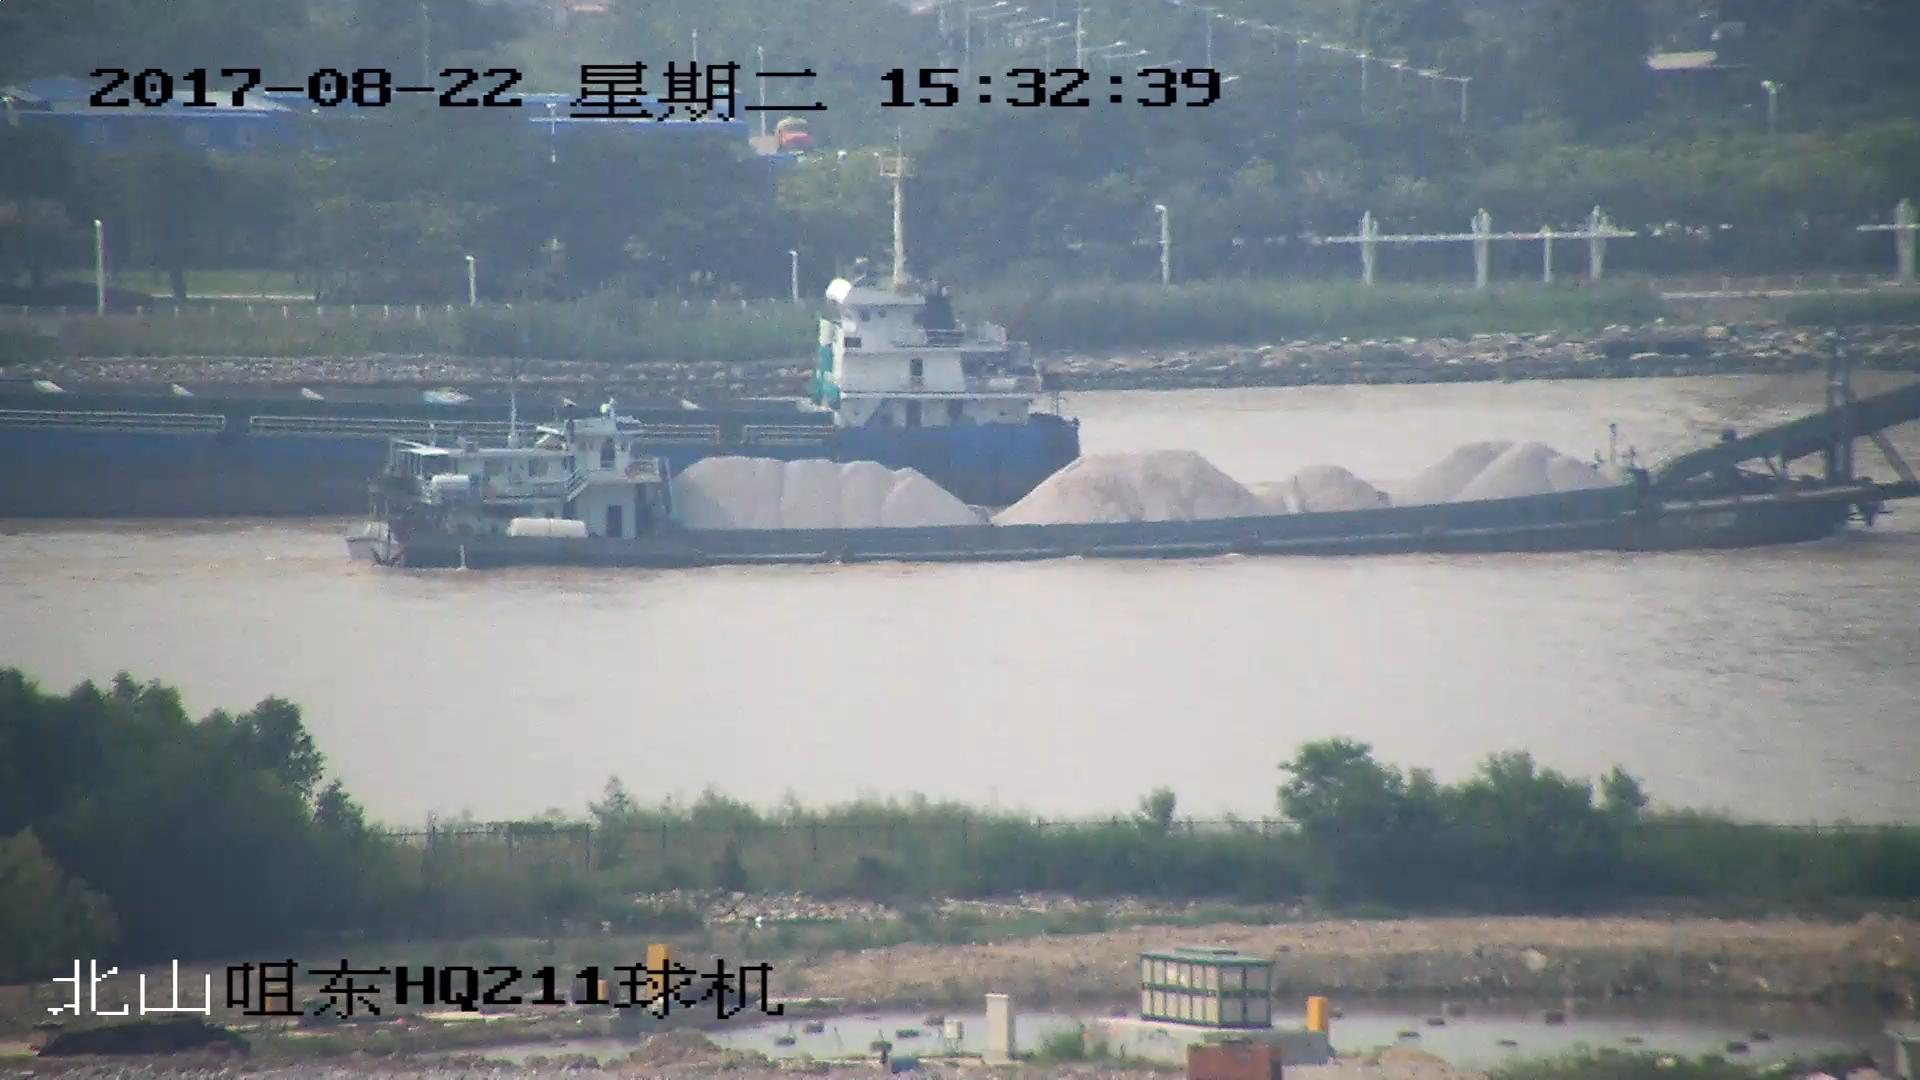Ship: (3, 154, 1096, 513), (360, 353, 1920, 572)
